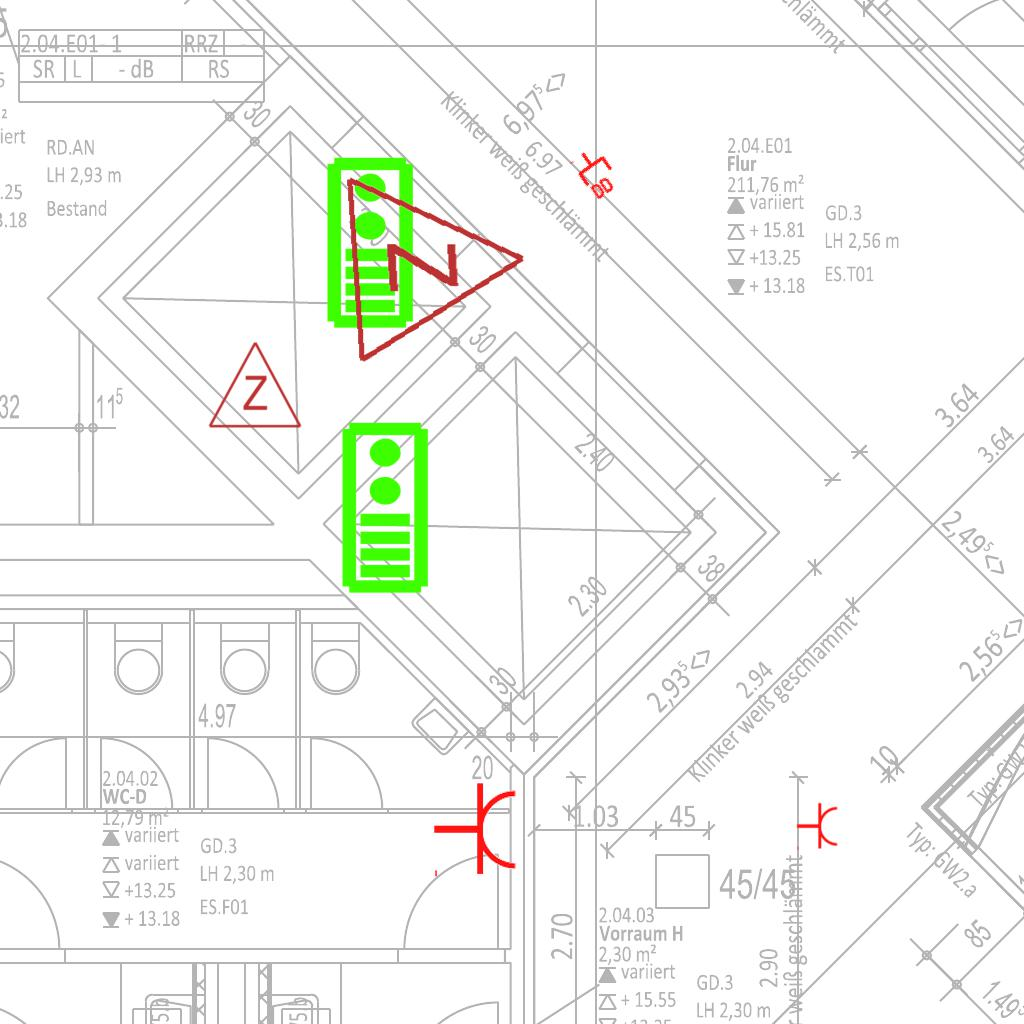Datenanschluss_zweifach: (568, 141, 626, 204)
Gegensprechanlage_mit_Video: (321, 154, 416, 330), (336, 419, 431, 595)
Schukosteckdose_einfach: (432, 781, 519, 881), (796, 802, 839, 852)
Zimmersignalleuchte: (331, 157, 545, 367), (205, 335, 303, 435)
